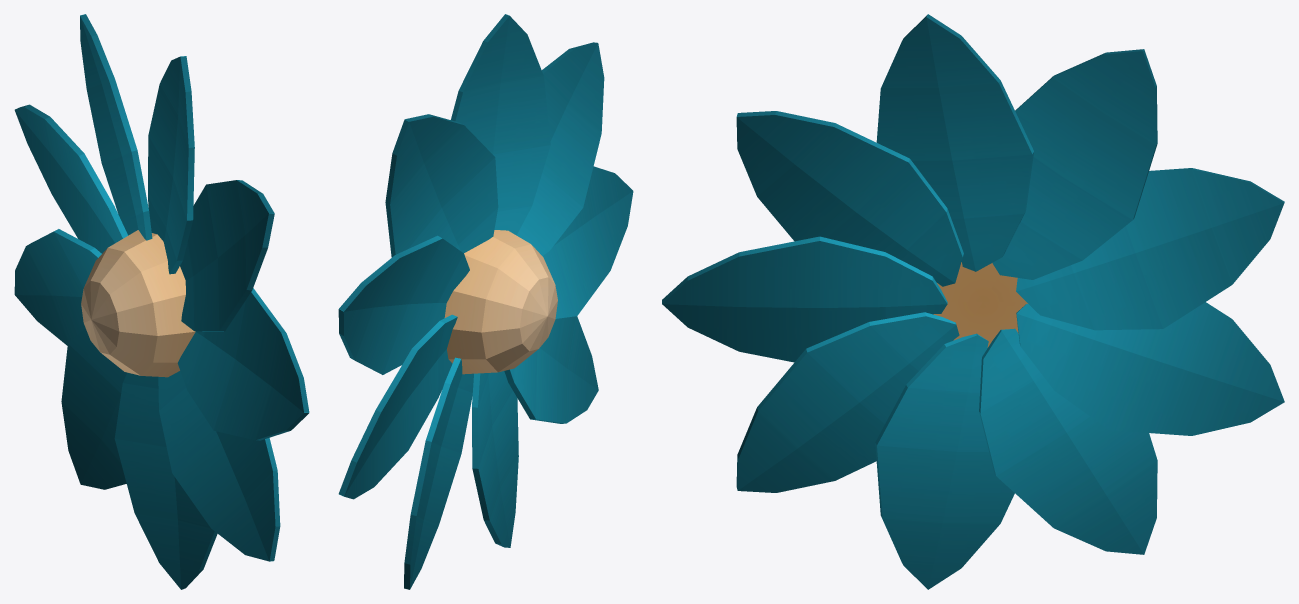
Rendered from Flower.FBX.
The picture shows the model from 3 angles, left to right: view 1: azimuth 30°, elevation 25°; view 2: azimuth 150°, elevation 25°; view 3: azimuth 270°, elevation 25°; orthographic projection. The views are drawn at different scales.
Visible parts, largest first — view 1: Flower_leaf_01, Flower_leaf_02, Flower_centre, Flower_leaf_03, Flower_leaf_09, Flower_leaf_08, Flower_leaf_04, Flower_leaf_06, Flower_leaf_07, Flower_leaf_05; view 2: Flower_leaf_07, Flower_leaf_08, Flower_centre, Flower_leaf_06, Flower_leaf_09, Flower_leaf_05, Flower_leaf_01, Flower_leaf_03, Flower_leaf_04, Flower_leaf_02; view 3: Flower_leaf_06, Flower_leaf_07, Flower_leaf_05, Flower_leaf_08, Flower_leaf_04, Flower_leaf_09, Flower_leaf_03, Flower_leaf_01, Flower_leaf_02, Flower_centre.
Boxes of the visible parts, bbox=[...] form: Flower_leaf_01: bbox=[177, 288, 309, 440]; Flower_leaf_02: bbox=[158, 371, 280, 561]; Flower_centre: bbox=[81, 230, 195, 377]; Flower_leaf_03: bbox=[114, 372, 217, 589]; Flower_leaf_09: bbox=[180, 180, 274, 331]; Flower_leaf_08: bbox=[148, 56, 194, 274]; Flower_leaf_04: bbox=[61, 328, 126, 489]; Flower_leaf_06: bbox=[14, 104, 127, 253]; Flower_leaf_07: bbox=[80, 14, 152, 240]; Flower_leaf_05: bbox=[14, 229, 101, 345]; Flower_leaf_07: bbox=[385, 114, 498, 257]; Flower_leaf_08: bbox=[451, 14, 550, 235]; Flower_centre: bbox=[444, 230, 557, 374]; Flower_leaf_06: bbox=[338, 235, 469, 374]; Flower_leaf_09: bbox=[516, 42, 604, 255]; Flower_leaf_05: bbox=[338, 314, 457, 499]; Flower_leaf_01: bbox=[542, 166, 633, 318]; Flower_leaf_03: bbox=[472, 371, 518, 547]; Flower_leaf_04: bbox=[404, 357, 473, 589]; Flower_leaf_02: bbox=[504, 316, 598, 423]; Flower_leaf_06: bbox=[1016, 168, 1284, 330]; Flower_leaf_07: bbox=[992, 49, 1157, 279]; Flower_leaf_05: bbox=[1016, 302, 1284, 435]; Flower_leaf_08: bbox=[876, 14, 1033, 271]; Flower_leaf_04: bbox=[979, 328, 1157, 554]; Flower_leaf_09: bbox=[736, 111, 963, 286]; Flower_leaf_03: bbox=[875, 333, 1014, 589]; Flower_leaf_01: bbox=[662, 236, 947, 362]; Flower_leaf_02: bbox=[736, 312, 959, 492]; Flower_centre: bbox=[933, 262, 1027, 347].
Size of the model in its own units: 78.02 by 454 by 461.
2 materials, 2 textured.
